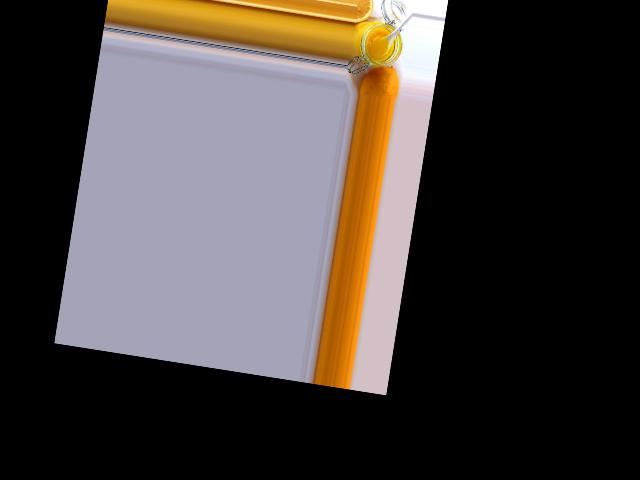lemon: (359, 61, 400, 99)
